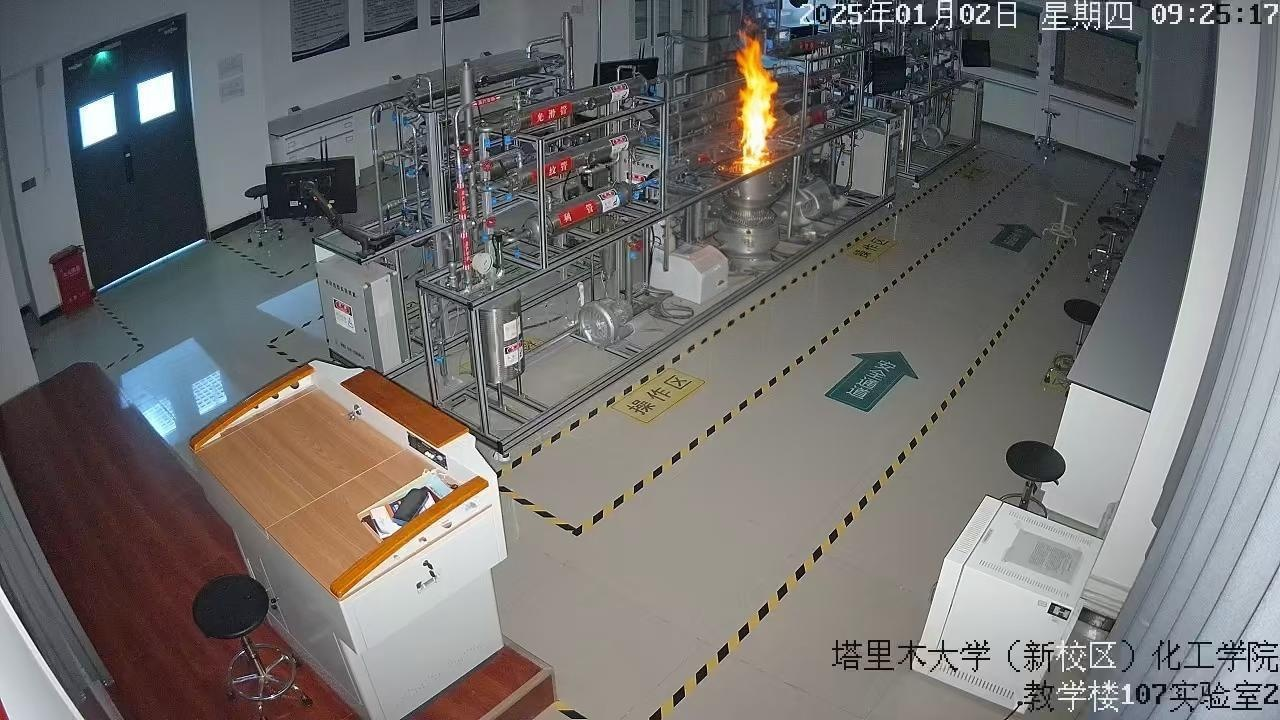fire: (724, 29, 821, 190)
